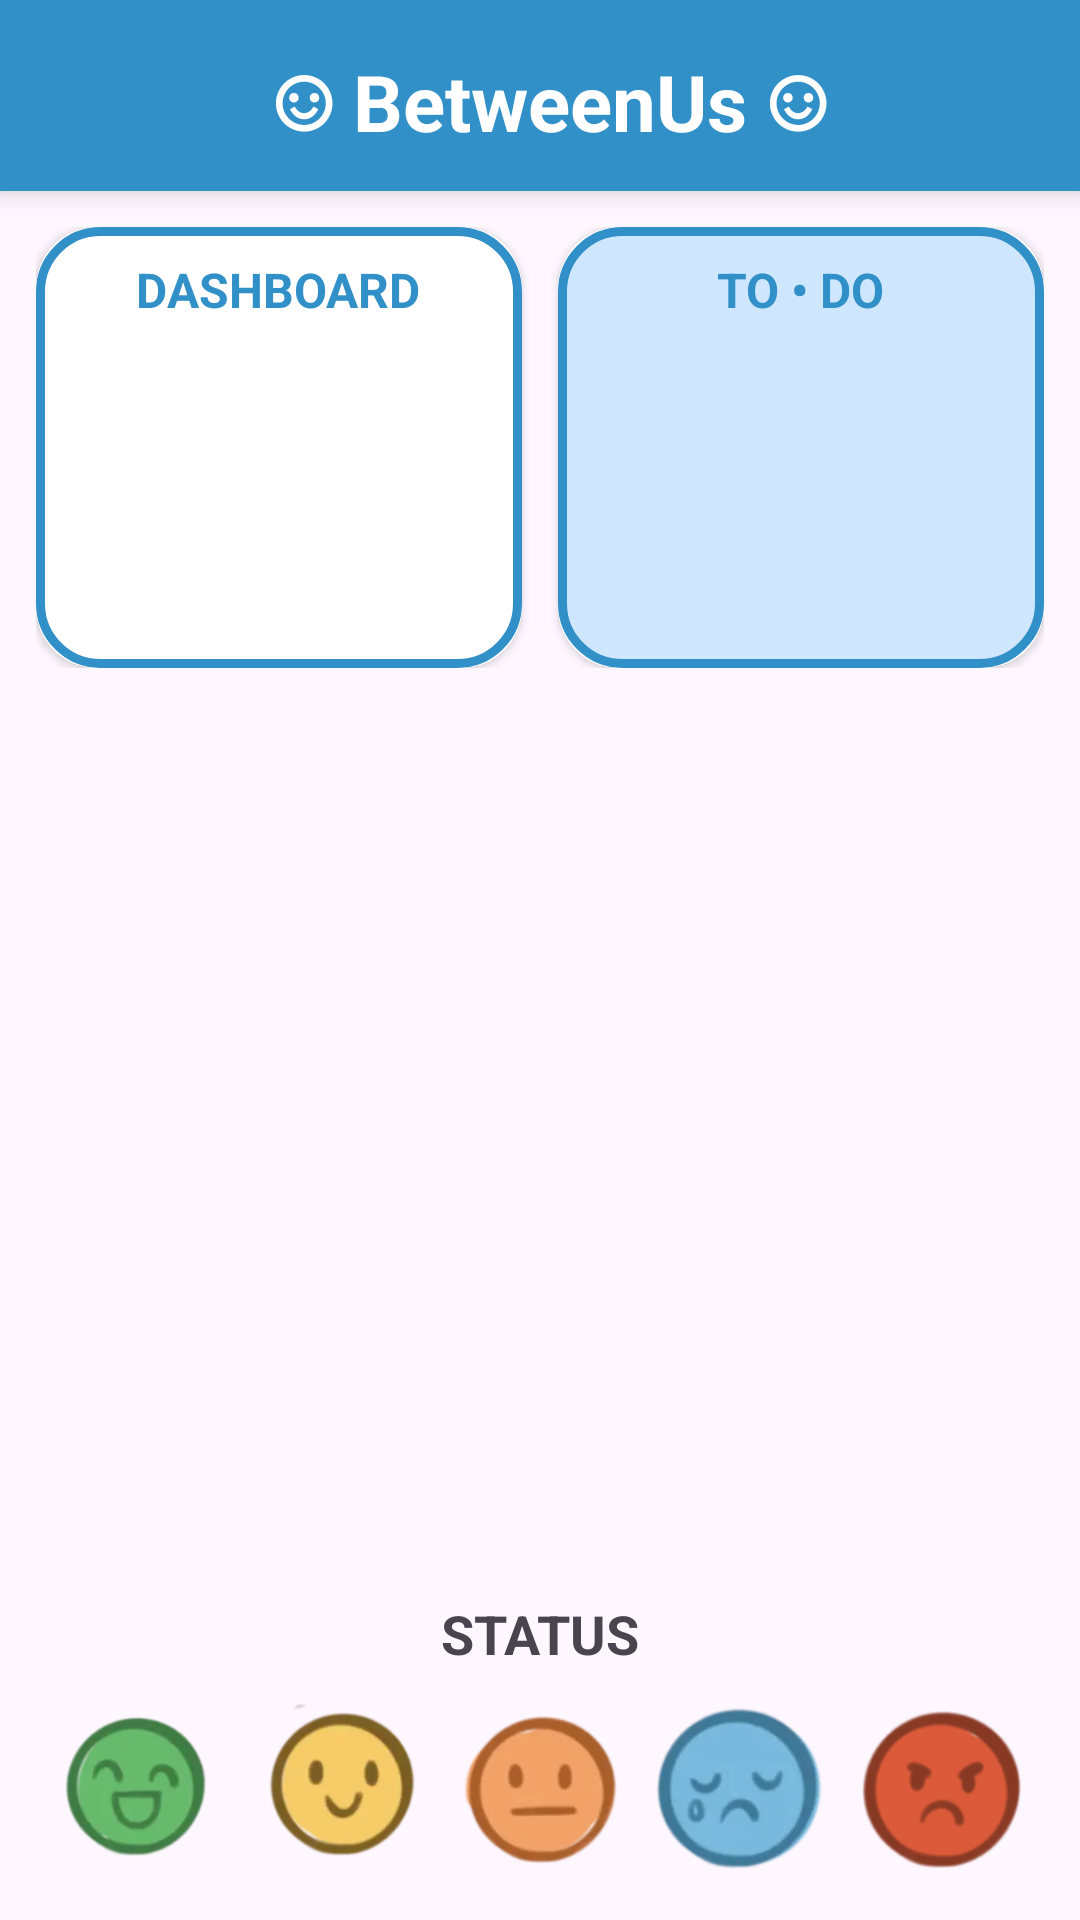

Screen size 1080x1920. Icon name, then its box in pixels as (x1, y1, x2, y2):
angry: (863, 1711, 1021, 1868)
excited: (66, 1717, 206, 1856)
happy: (270, 1705, 414, 1855)
meh: (465, 1716, 616, 1863)
sad: (657, 1709, 821, 1868)
